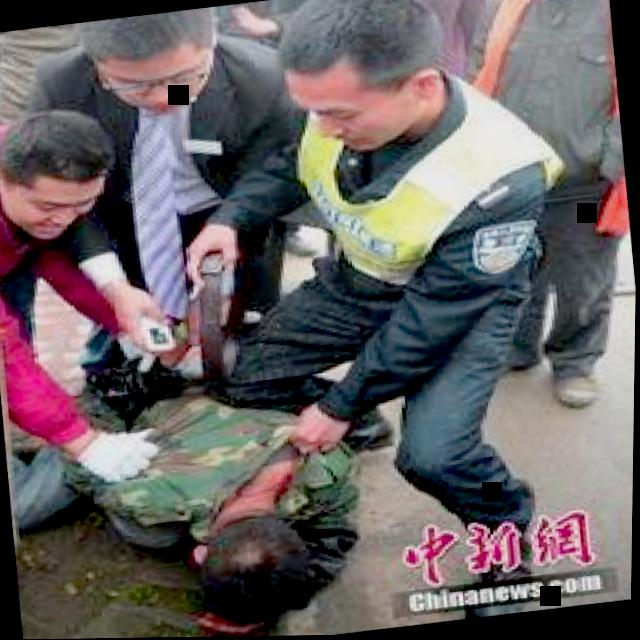Fall-Detected: (38, 255, 380, 639)
